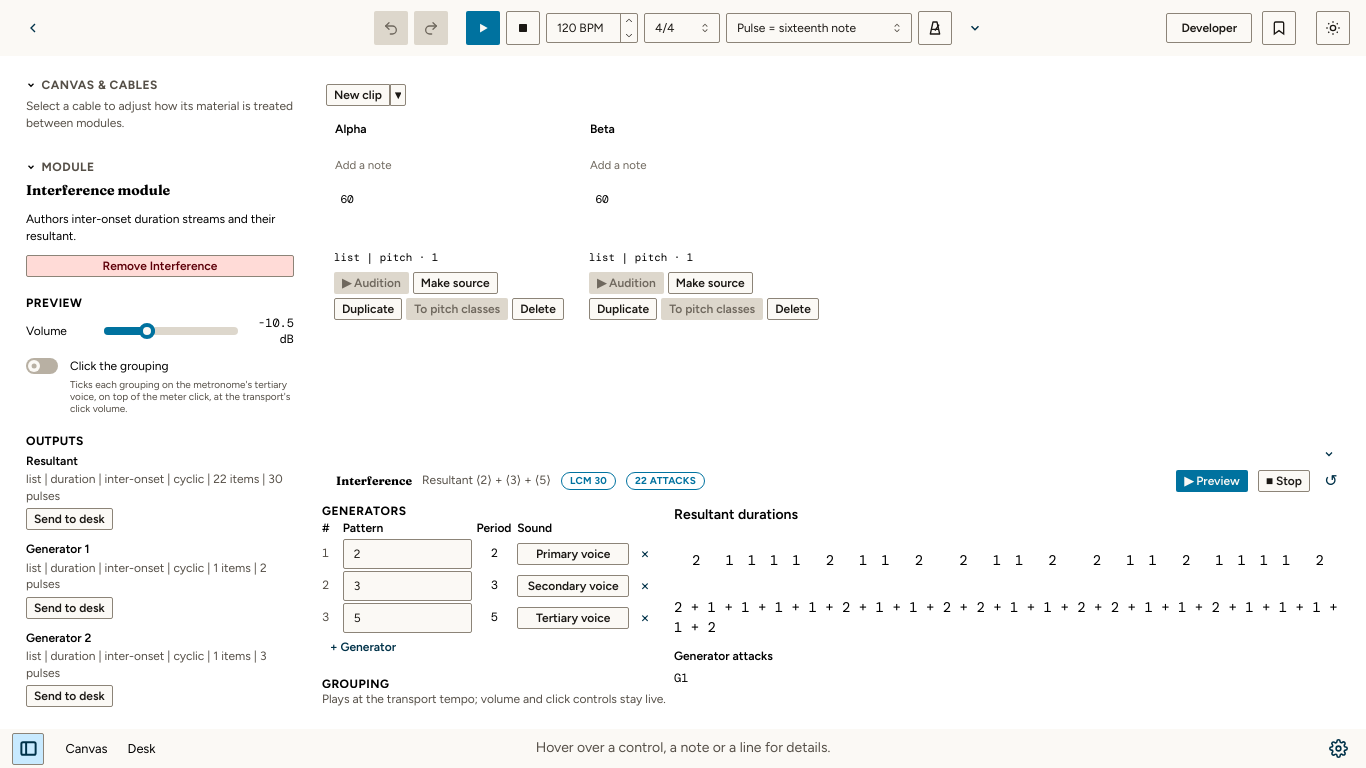
the bottom panel targets a module or a clip › works from the canvas view too, with the hidden-view rule unchanged
Step 1. Double-click the 1st text "list | pitch · 1" → {"x": 386, "y": 257}, box [334, 250, 438, 264]
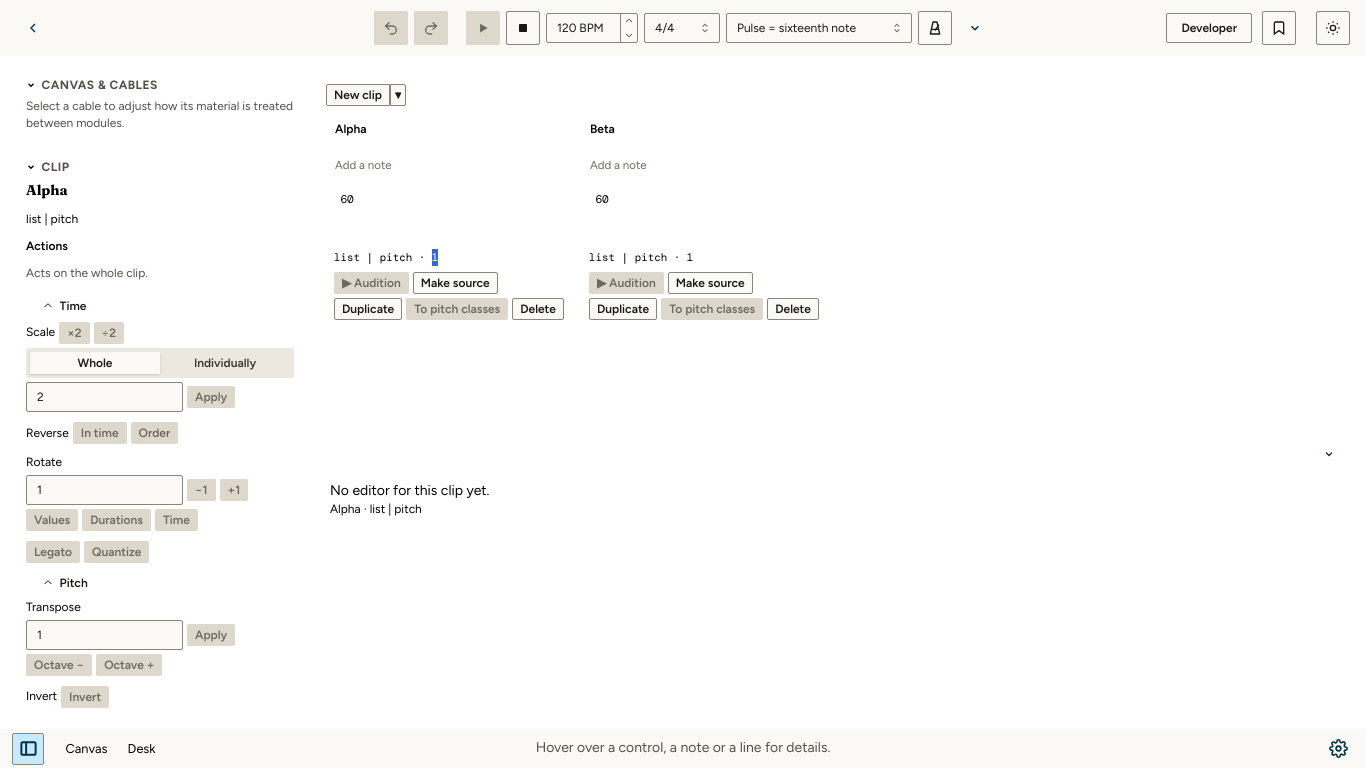
Step 2. Click the radio button labelled "Canvas" → {"x": 86, "y": 748}, box [56, 734, 117, 763]
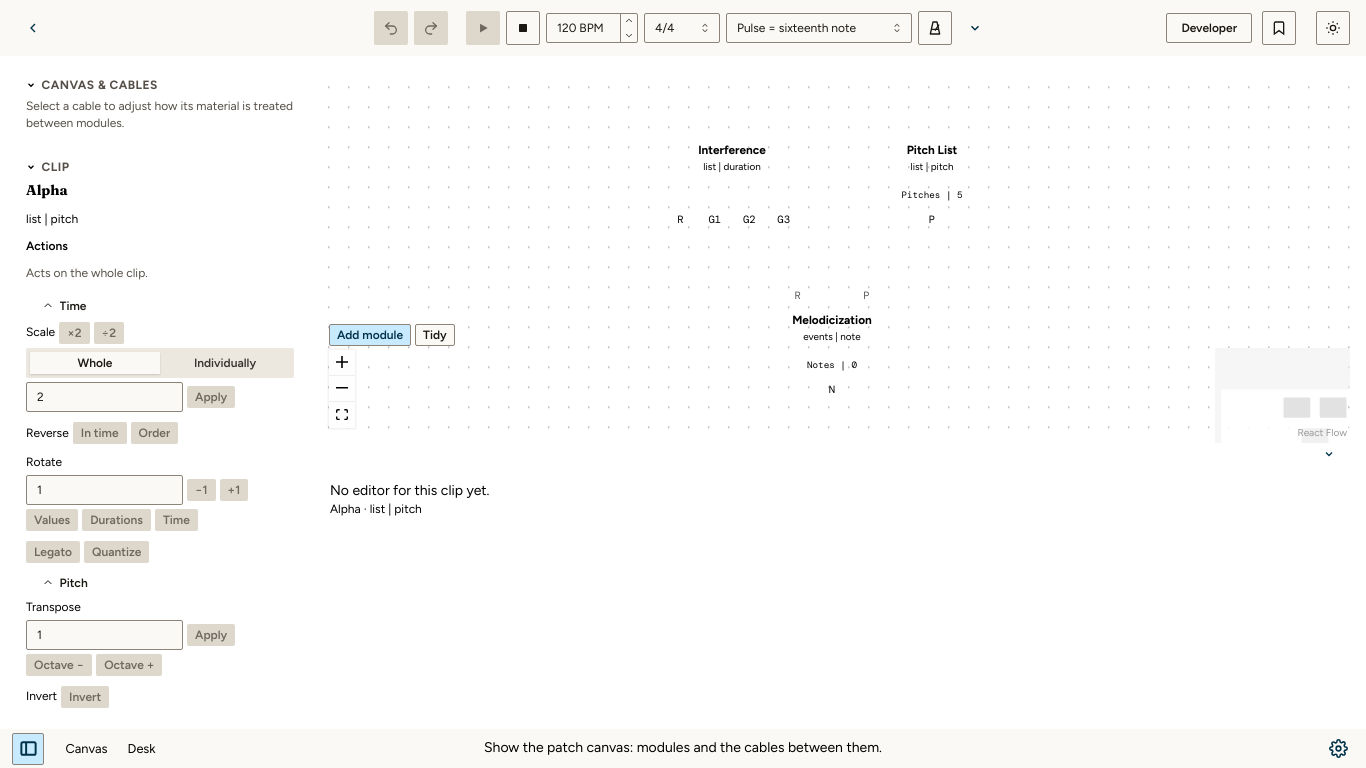
Now the message "No editor for this clip yet. Alpha · list | pitch" is shown, box [330, 482, 490, 516]
// Selecting a module from the canvas returns the panel to its editor.
Step 3. Click the button "Pitch List list | pitch Pitches | 5" → {"x": 932, "y": 172}, box [858, 134, 1006, 211]
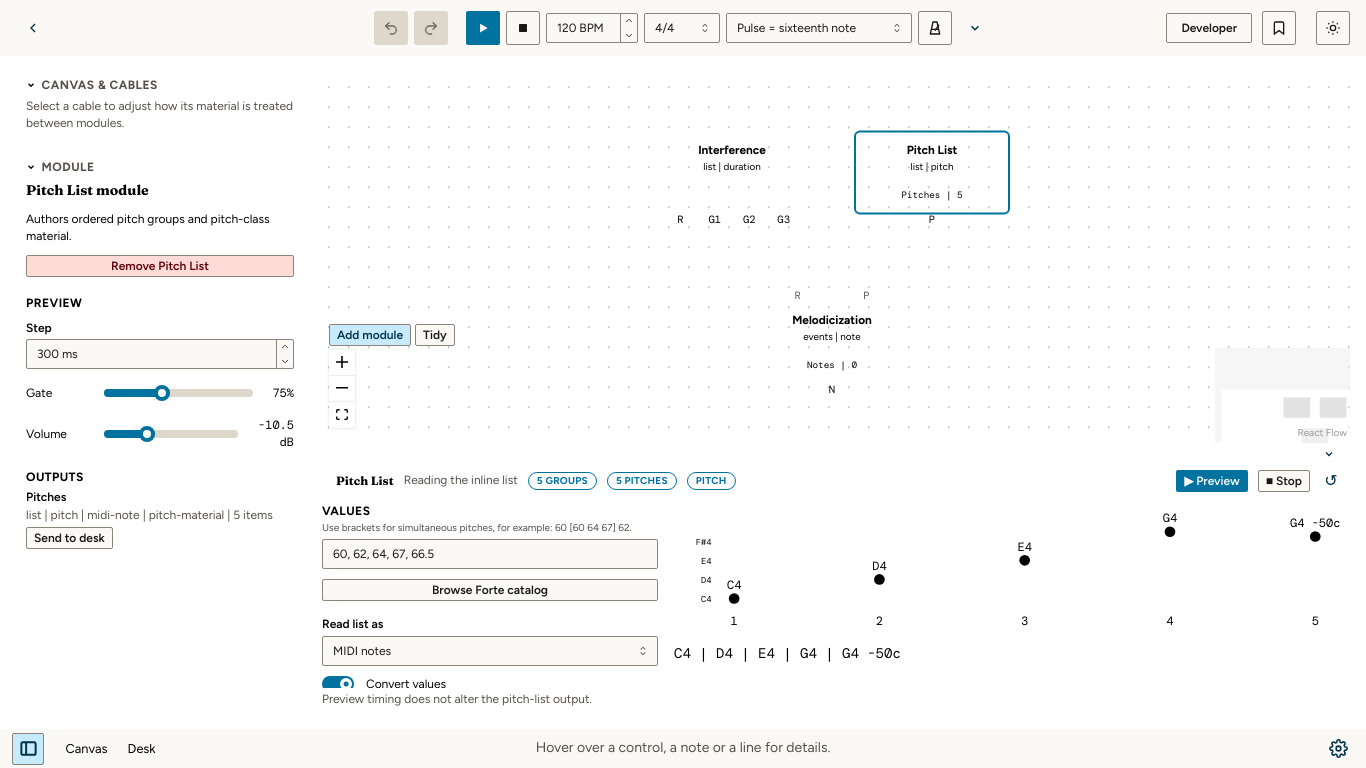
Now the text "No editor for this clip yet." is gone
Now the field named "Pitch values" is shown, box [322, 539, 658, 569]
